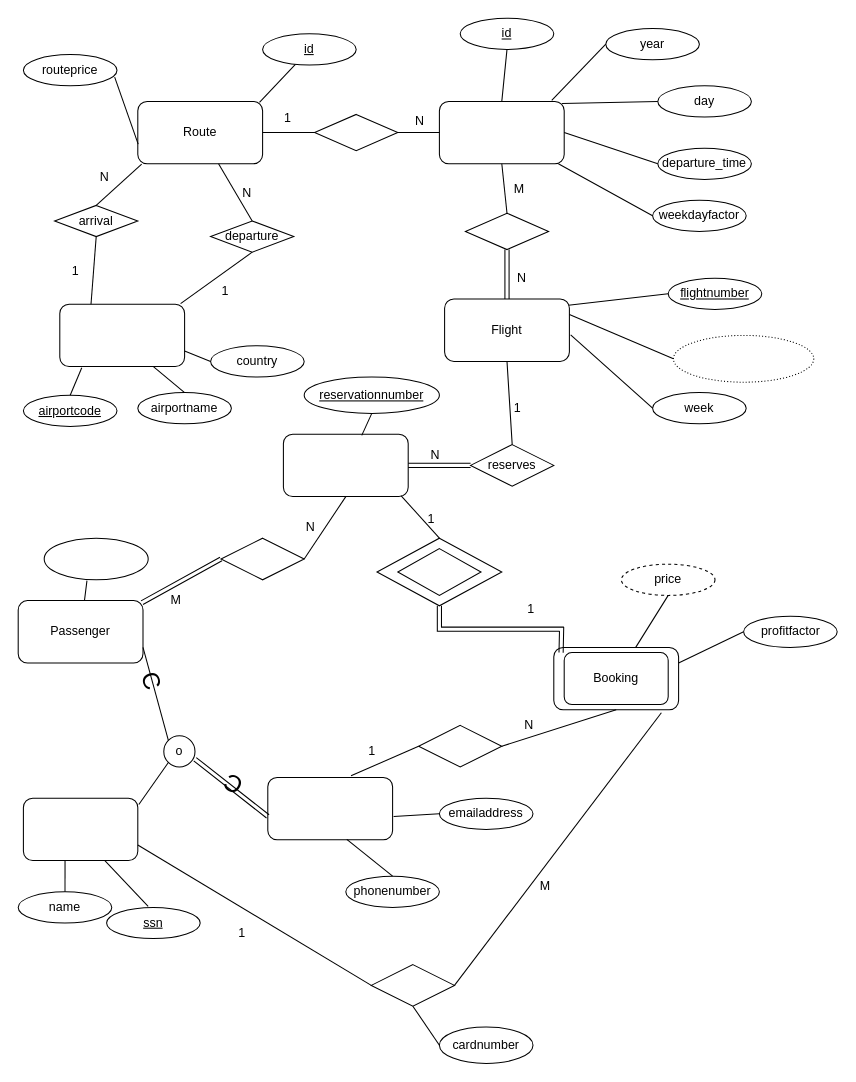
Image size: 856x1082. Some labels were removed from this diagram. The box of each missing label's shape, as (x1, y1, x2, y2) in pixels:
airport: (59, 303, 185, 367)
Booked: (397, 548, 481, 595)
bookedpassengers: (672, 334, 814, 382)
books: (418, 724, 502, 767)
Contact: (267, 776, 393, 840)
contains: (314, 113, 398, 151)
in: (220, 537, 304, 580)
occurs: (464, 212, 549, 250)
passportnumber: (43, 537, 148, 580)
Person: (22, 797, 138, 861)
Reservation: (282, 433, 408, 497)
sale: (370, 964, 454, 1006)
schedual_weekly: (438, 100, 564, 164)
